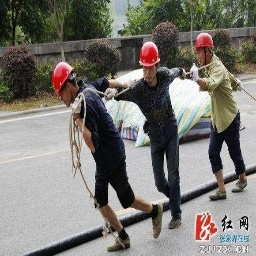helmet: (53, 62, 80, 101), (137, 40, 163, 70), (192, 32, 220, 56)
no-vest: (71, 90, 124, 160), (131, 78, 188, 137), (198, 63, 243, 136)
person: (52, 60, 131, 256), (133, 42, 184, 227), (192, 32, 247, 203)
